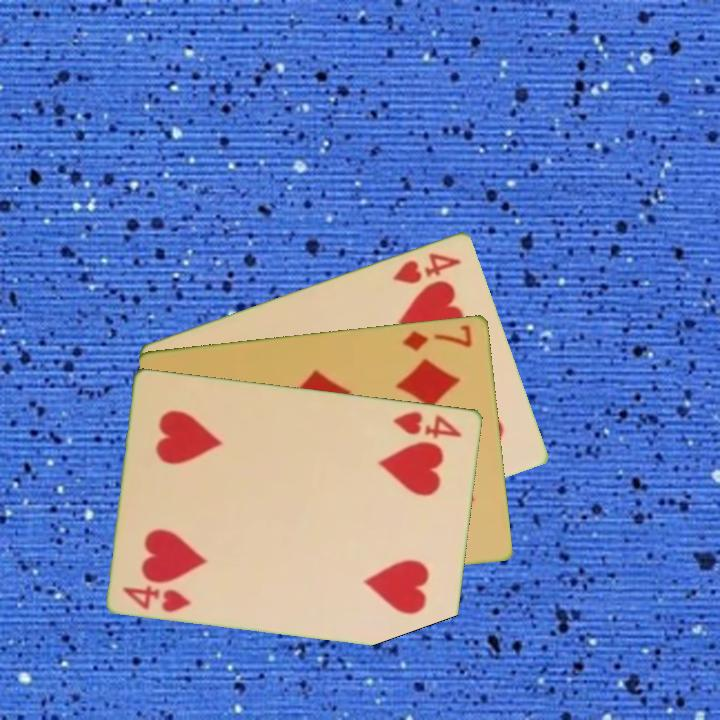4h: (389, 248, 464, 287), (390, 407, 465, 441), (120, 581, 195, 615)
7d: (399, 321, 476, 354)
